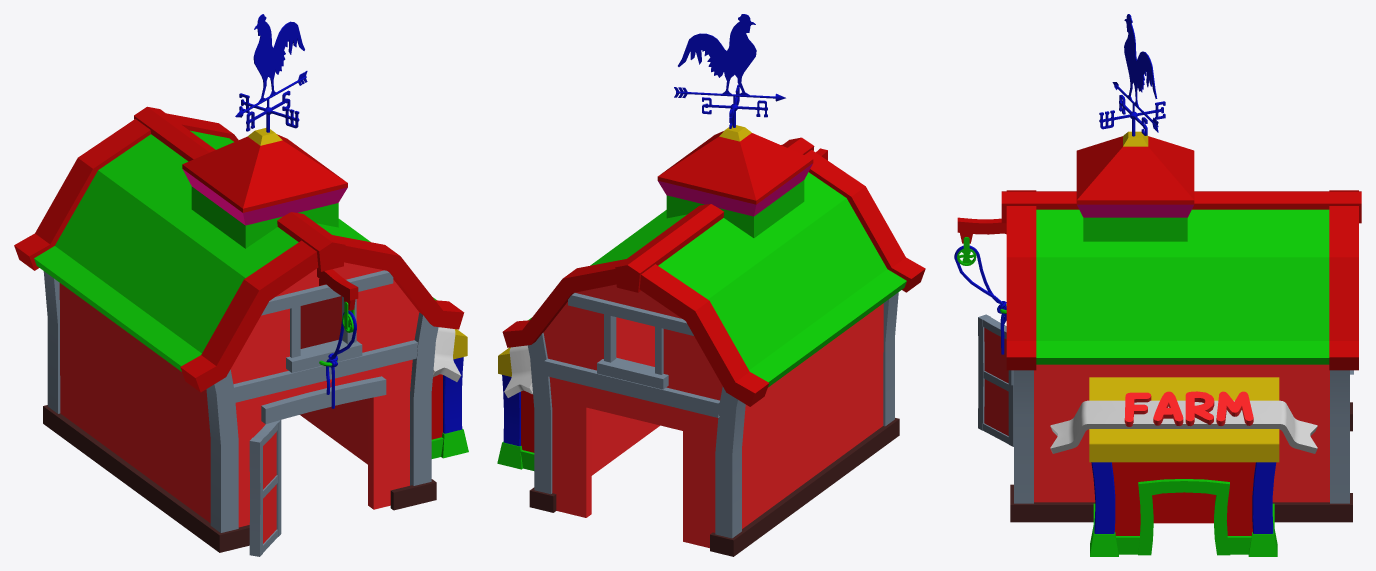
File: Bran.fbx
3 views of the same model, side by side, from view 1: azimuth 30°, elevation 25°; view 2: azimuth 150°, elevation 25°; view 3: azimuth 270°, elevation 25° (orthographic). The views are drawn at different scales.
Parts seen in each view (by area): view 1: Farm_h, Roof_l, Cube.010, SFarm_l, Door_l, Rope_l; view 2: Farm_h, Roof_l, Cube.010, SFarm_l; view 3: Roof_l, SFarm_l, Farm_h, Cube.010, Door_l, Rope_l.
Part boxes in pixels (x1=…): Farm_h: x1=43, y1=262, x2=438, y2=552; Roof_l: x1=14, y1=106, x2=464, y2=392; Cube.010: x1=182, y1=14, x2=347, y2=248; SFarm_l: x1=431, y1=327, x2=468, y2=458; Door_l: x1=249, y1=420, x2=281, y2=556; Rope_l: x1=317, y1=269, x2=358, y2=408; Farm_h: x1=527, y1=284, x2=899, y2=556; Roof_l: x1=502, y1=137, x2=925, y2=406; Cube.010: x1=657, y1=14, x2=813, y2=237; SFarm_l: x1=497, y1=345, x2=534, y2=470; Roof_l: x1=1001, y1=190, x2=1361, y2=370; SFarm_l: x1=1050, y1=377, x2=1317, y2=556; Farm_h: x1=1010, y1=364, x2=1353, y2=522; Cube.010: x1=1076, y1=14, x2=1194, y2=241; Door_l: x1=978, y1=314, x2=1013, y2=446; Rope_l: x1=954, y1=217, x2=1006, y2=354.
Size of the model in its own units: 422 by 484 by 596.
